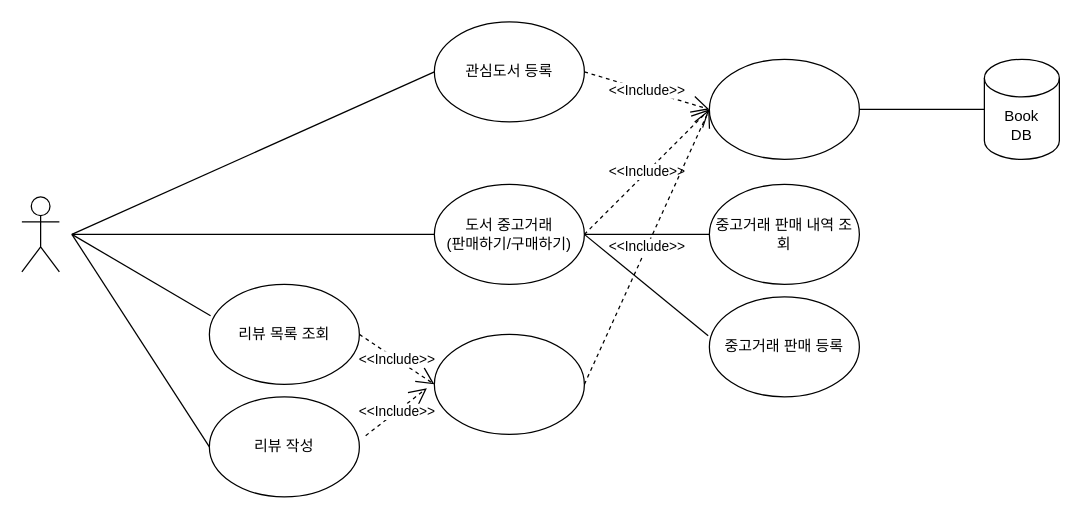
Some shapes in this 1081 by 519 pixel diagram are drawn without their labels. Here are the shapes that lost their labels. From the top down, the centre of each, then its label:
the point at 783,108: 도서 정보 검색
the point at 40,234: Actor
the point at 508,383: 도서 상세 정보 조회
